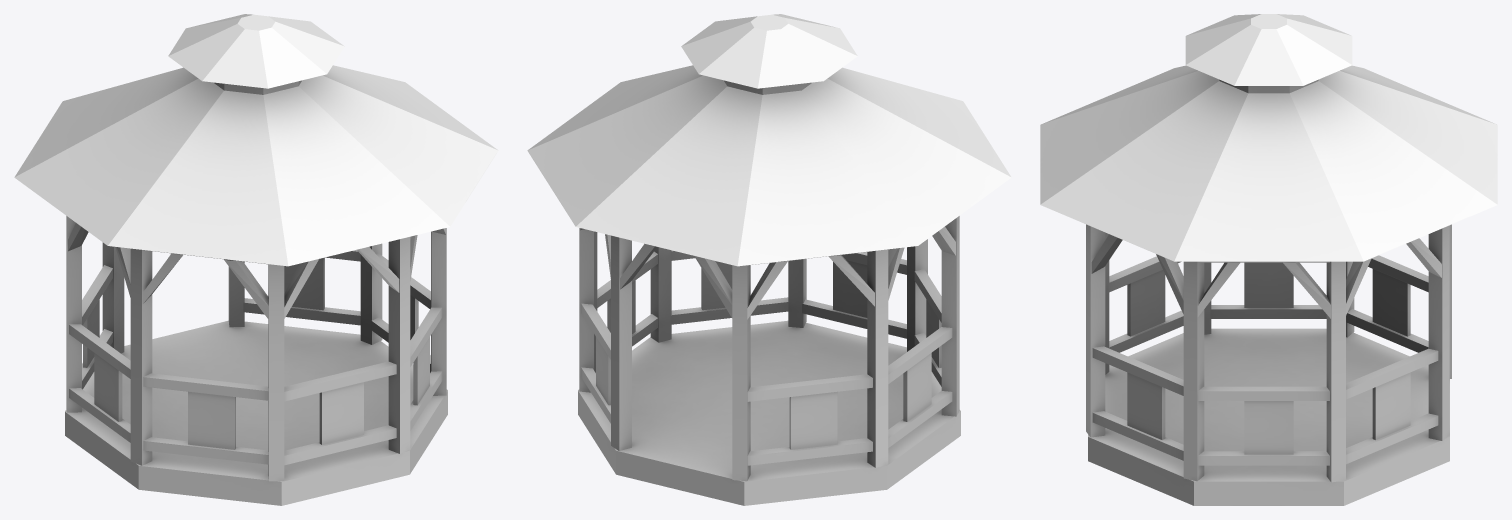
Rendered from gazebo.obj.
The picture shows the model from 3 angles, left to right: view 1: azimuth 30°, elevation 25°; view 2: azimuth 150°, elevation 25°; view 3: azimuth 270°, elevation 25°; orthographic projection.
Parts seen in each view (by area): view 1: gazebo; view 2: gazebo; view 3: gazebo.
Part boxes in pixels (left/top/right/bottom): gazebo: left=14, top=14, right=498, bottom=505; gazebo: left=527, top=14, right=1011, bottom=505; gazebo: left=1040, top=14, right=1497, bottom=505.
Size of the model in its own units: 0.8928 by 0.878 by 0.8928.
1 material, 1 textured.
